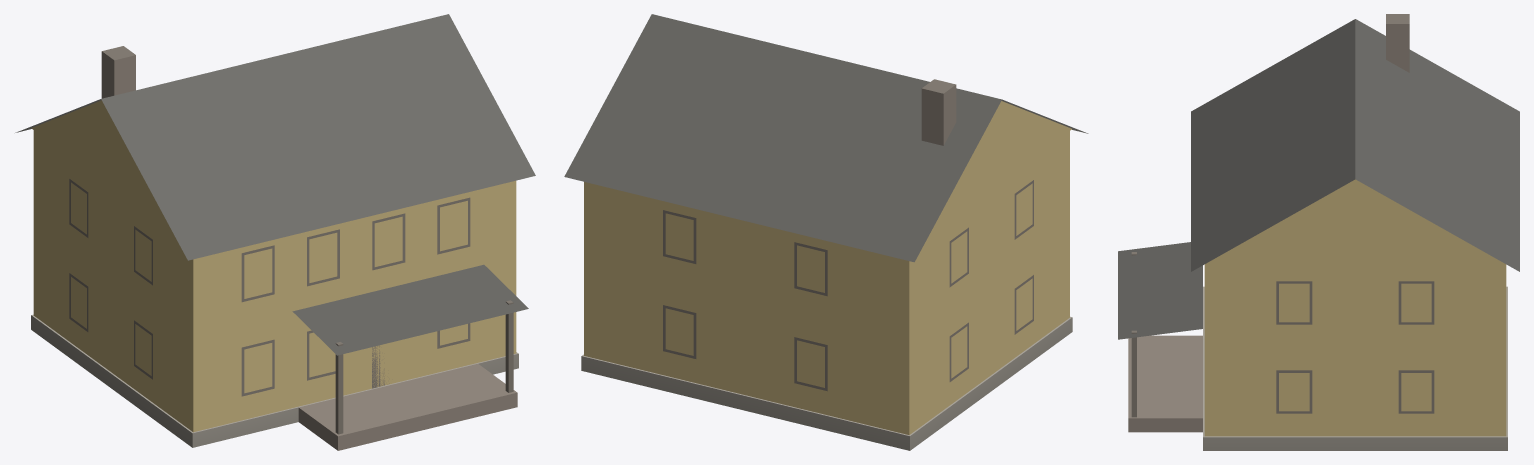
Rendered from house_d.glb.
3 views of the same model, side by side, from view 1: azimuth 30°, elevation 25°; view 2: azimuth 150°, elevation 25°; view 3: azimuth 270°, elevation 25° (orthographic). The views are drawn at different scales.
Visible parts, largest first — view 1: house_d; view 2: house_d; view 3: house_d.
Boxes of the visible parts, x1,y1,x2,y2 form: house_d: (15,14,535,450); house_d: (564,14,1088,450); house_d: (1118,14,1519,450).
Bounding box in the file's own units: 11.2 × 9.6 × 11.85.
